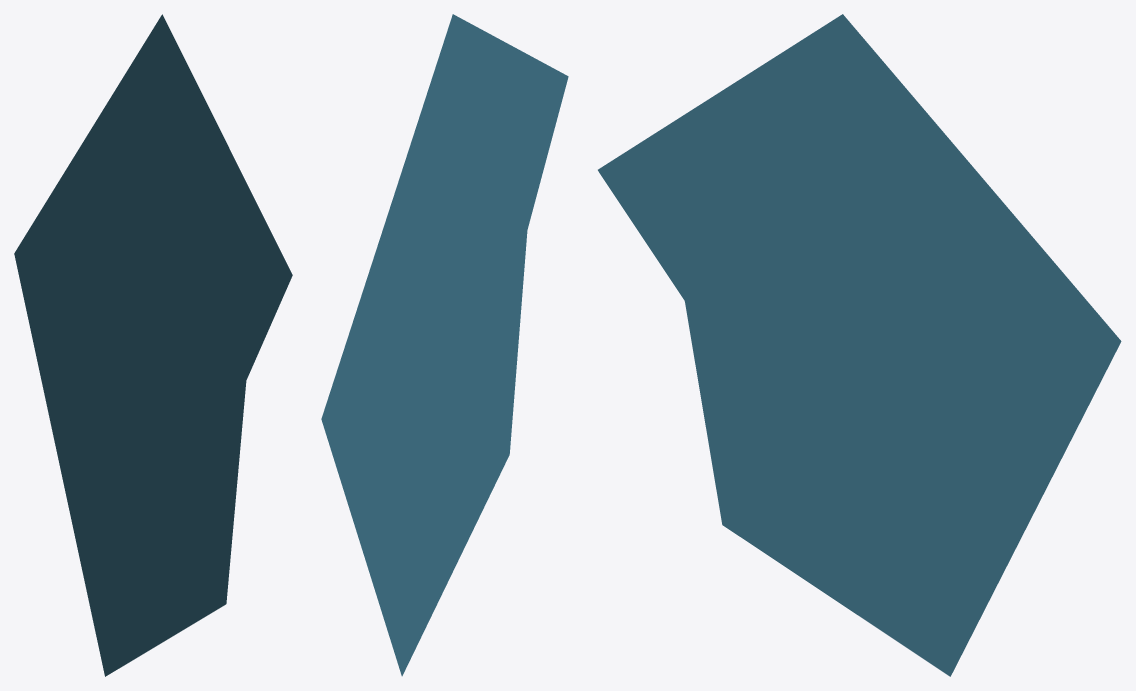
Rendered from NexusC_Cloth_7.fbx.
3 renders of one model, left to right at view 1: azimuth 30°, elevation 25°; view 2: azimuth 150°, elevation 25°; view 3: azimuth 270°, elevation 25°, orthographic. The views are drawn at different scales.
Visible parts, largest first — view 1: polySurface75; view 2: polySurface75; view 3: polySurface75.
Boxes of the visible parts, x1,y1,x2,y2 form: polySurface75: (14, 14, 292, 676); polySurface75: (321, 14, 568, 676); polySurface75: (598, 14, 1121, 676).
Size of the model in its own units: 0.000102 by 49.13 by 35.19.
